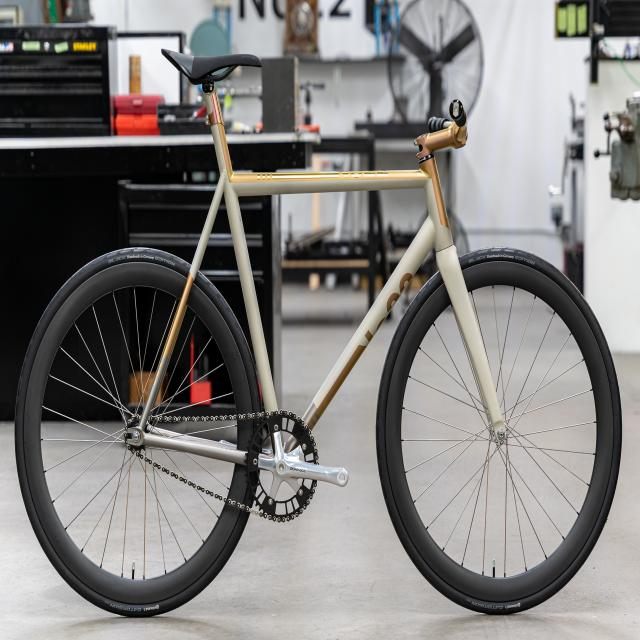bicycle: (13, 36, 628, 620)
